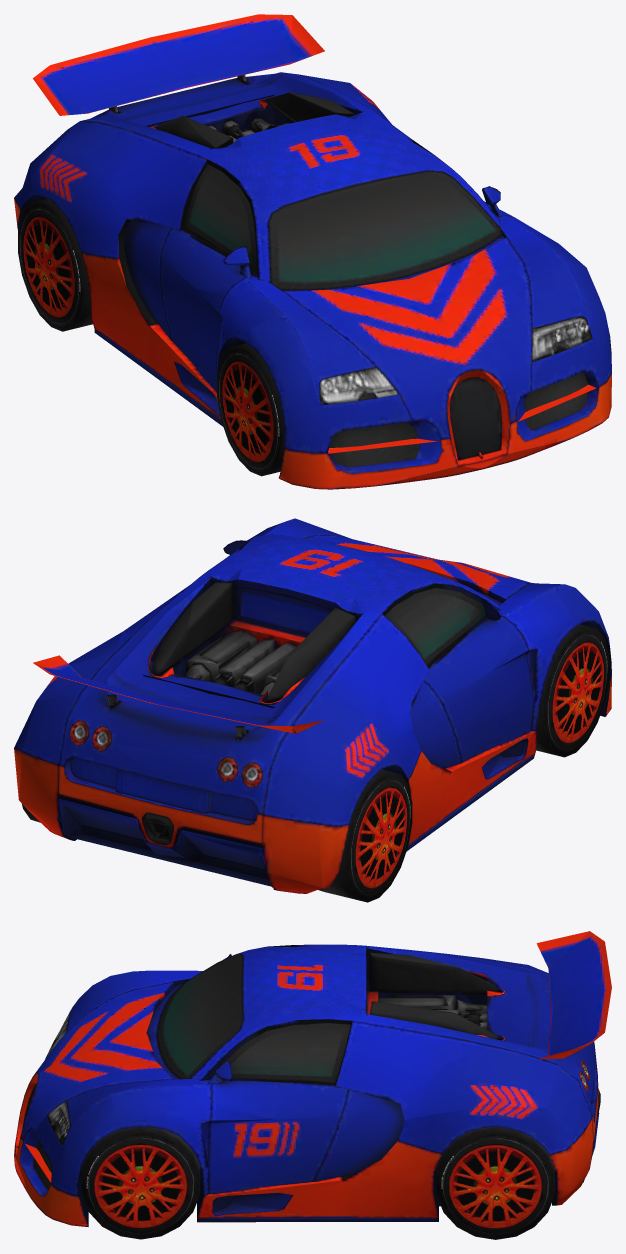
The model's file is Car 12.glb.
3 views of the same model, one above another, from view 1: azimuth 30°, elevation 25°; view 2: azimuth 150°, elevation 25°; view 3: azimuth 270°, elevation 25° (orthographic). The views are drawn at different scales.
Parts seen in each view (by area): view 1: carBody_low_004, tireBackR_low_007, tireFrontR_low_007; view 2: carBody_low_004, tireBackR_low_007, tireFrontR_low_007; view 3: carBody_low_004, tireFrontL_low_007, tireBackL_low_007.
Boxes of the visible parts, x1,y1,x2,y2 form: carBody_low_004: (14, 14, 611, 489); tireBackR_low_007: (18, 198, 92, 331); tireFrontR_low_007: (217, 343, 284, 476); carBody_low_004: (14, 518, 611, 893); tireBackR_low_007: (318, 769, 412, 902); tireFrontR_low_007: (536, 624, 609, 757); carBody_low_004: (14, 931, 611, 1226); tireFrontL_low_007: (81, 1127, 200, 1239); tireBackL_low_007: (436, 1126, 554, 1239).
Size of the model in its own units: 0.6667 by 0.4078 by 1.13.
2 materials, 2 textured.
